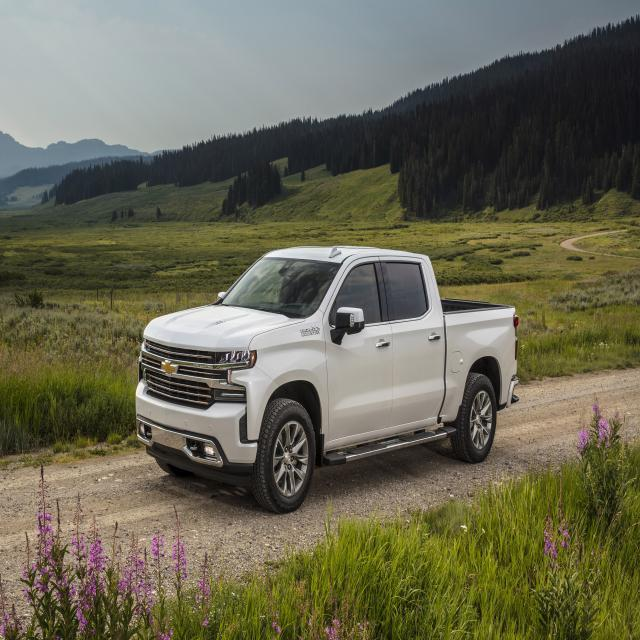person: (134, 242, 520, 514)
